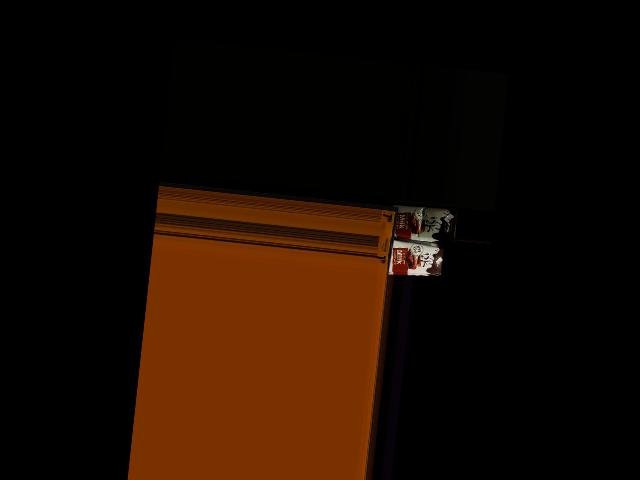chocolate: (381, 239, 445, 283)
